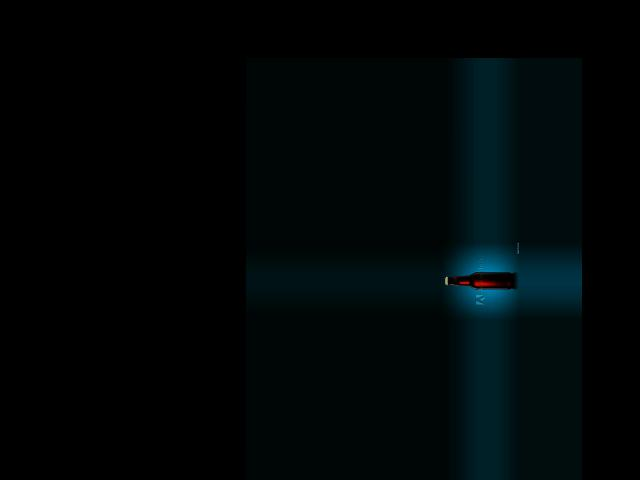beer: (445, 271, 512, 289)
